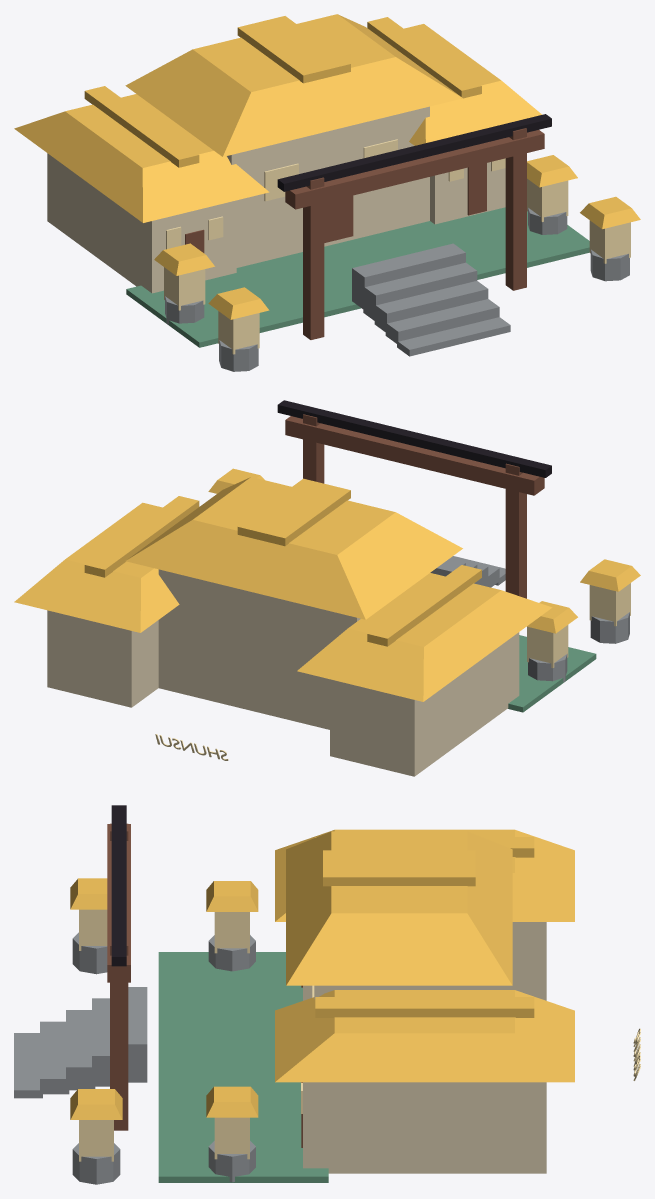
File: 12_shunsui.glb
3 renders of one model, top to bottom at view 1: azimuth 30°, elevation 25°; view 2: azimuth 150°, elevation 25°; view 3: azimuth 270°, elevation 25°, orthographic. The views are drawn at different scales.
Visible parts, largest first — view 1: main_roof.002, courtyard_floor.002, wing_roof.004, main_body.002, wing_body.004, wing_roof.005, torii_beam.012, main_ridge.002, torii_lintel.012, torii_post_L.012, torii_post_R.012, wing_ridge.004 (+22 smaller); view 2: main_roof.002, main_body.002, wing_roof.004, wing_body.004, wing_roof.005, wing_body.005, torii_beam.012, main_ridge.002, torii_lintel.012, wing_ridge.004, wing_ridge.005, torii_post_L.012 (+9 smaller); view 3: main_roof.002, courtyard_floor.002, wing_body.005, wing_roof.005, wing_roof.004, main_ridge.002, wing_ridge.005, wing_body.004, torii_lintel.012, torii_post_R.012, stairs_2.010, stairs_1.010 (+18 smaller).
Part boxes in pixels (x1,y1,x2,y2): main_roof.002: (125,14,462,156); courtyard_floor.002: (126,207,589,347); wing_roof.004: (14,94,269,222); main_body.002: (227,106,429,267); wing_body.004: (47,153,236,293); wing_roof.005: (404,24,541,145); torii_beam.012: (285,130,544,209); main_ridge.002: (237,16,350,83); torii_lintel.012: (277,114,551,191); torii_post_L.012: (303,177,324,339); torii_post_R.012: (505,128,526,290); wing_ridge.004: (84,86,199,167); main_roof.002: (125,477,462,619); main_body.002: (158,569,360,729); wing_roof.004: (297,573,552,701); wing_body.004: (330,632,519,776); wing_roof.005: (14,502,179,632); wing_body.005: (47,610,158,707); torii_beam.012: (285,416,544,495); main_ridge.002: (237,478,350,546); torii_lintel.012: (277,400,551,477); wing_ridge.004: (367,565,481,646); wing_ridge.005: (84,496,199,577); torii_post_L.012: (505,463,526,598); main_roof.002: (286,831,512,985); courtyard_floor.002: (158,952,328,1182); wing_body.005: (303,1082,546,1173); wing_roof.005: (275,990,574,1082); wing_roof.004: (275,829,574,921); main_ridge.002: (323,850,475,886); wing_ridge.005: (315,997,534,1017); wing_body.004: (303,922,546,1000); torii_lintel.012: (111,805,126,966); torii_post_R.012: (110,938,128,1130); stairs_2.010: (66,1010,95,1090); stairs_1.010: (40,1021,69,1094).
Bounding box in the file's own units: 9.72 × 4.03 × 11.08.
